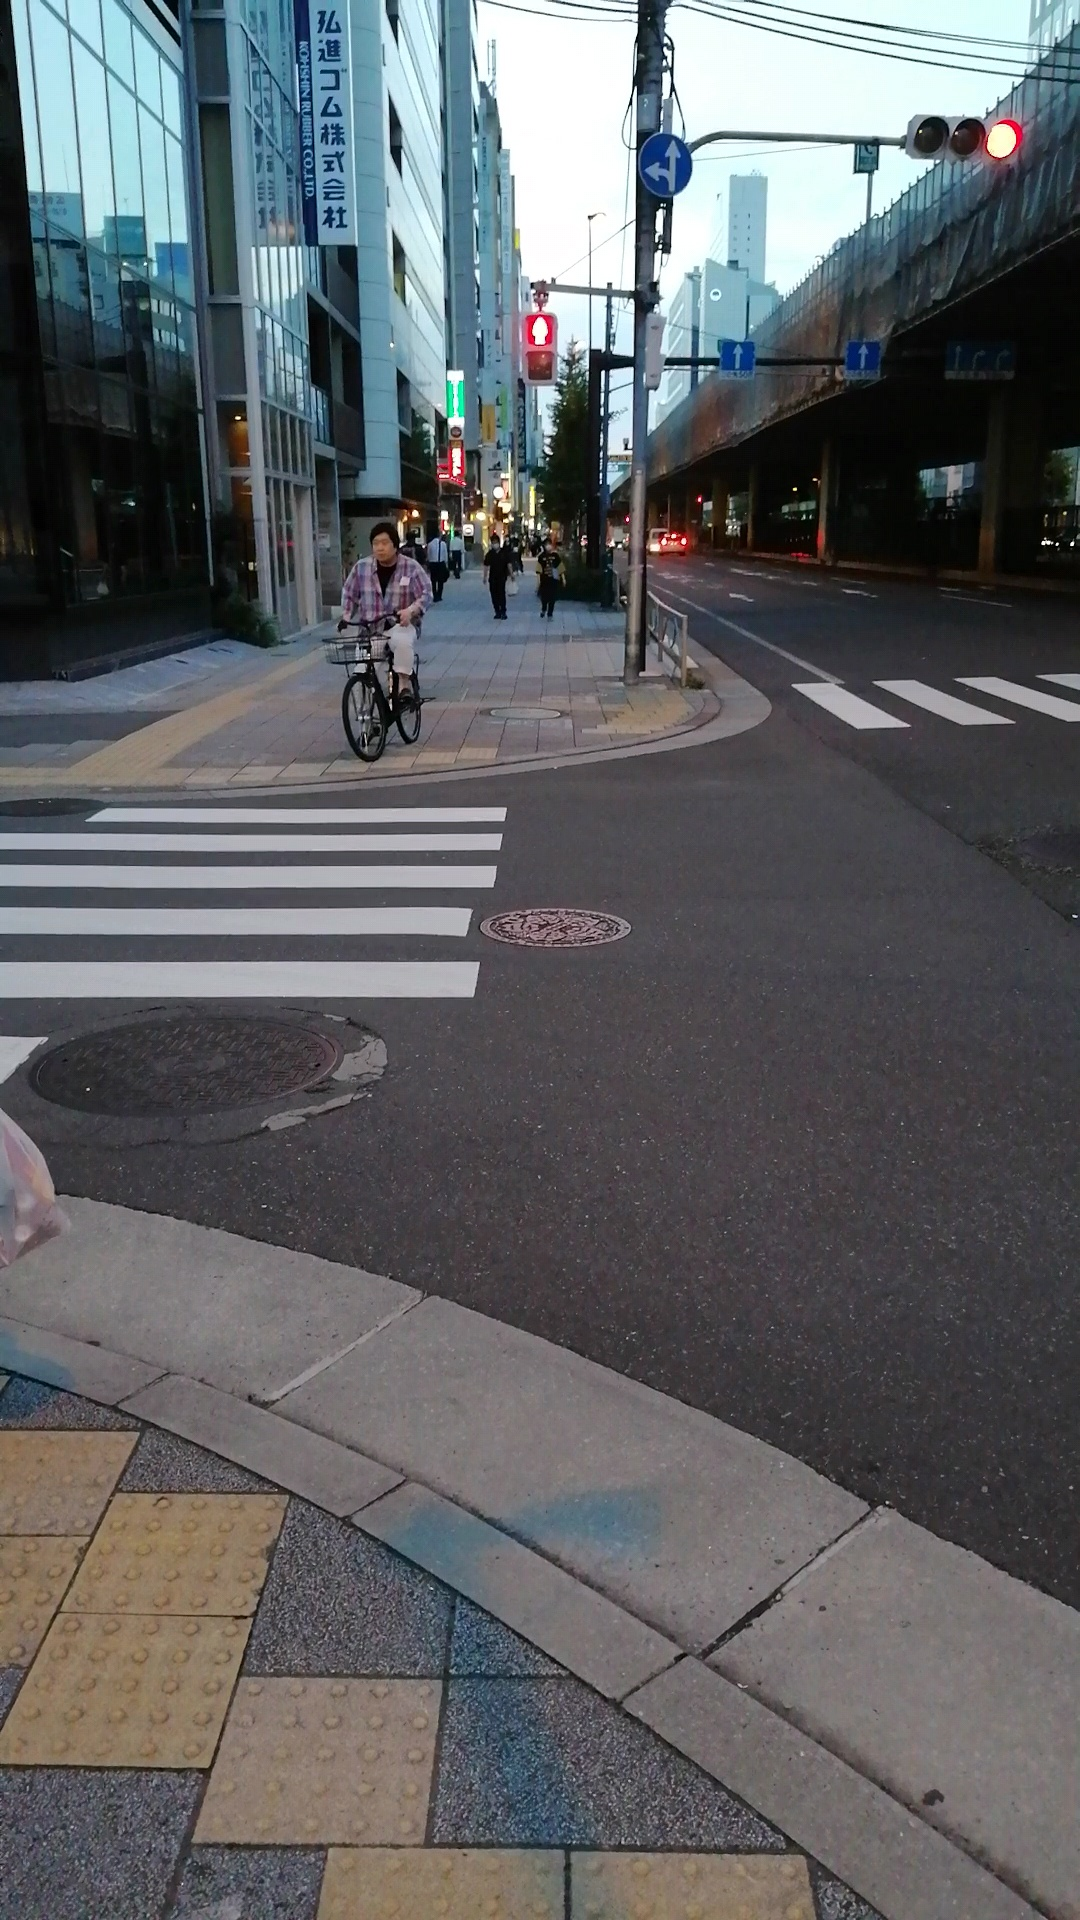red: (522, 309, 562, 386)
